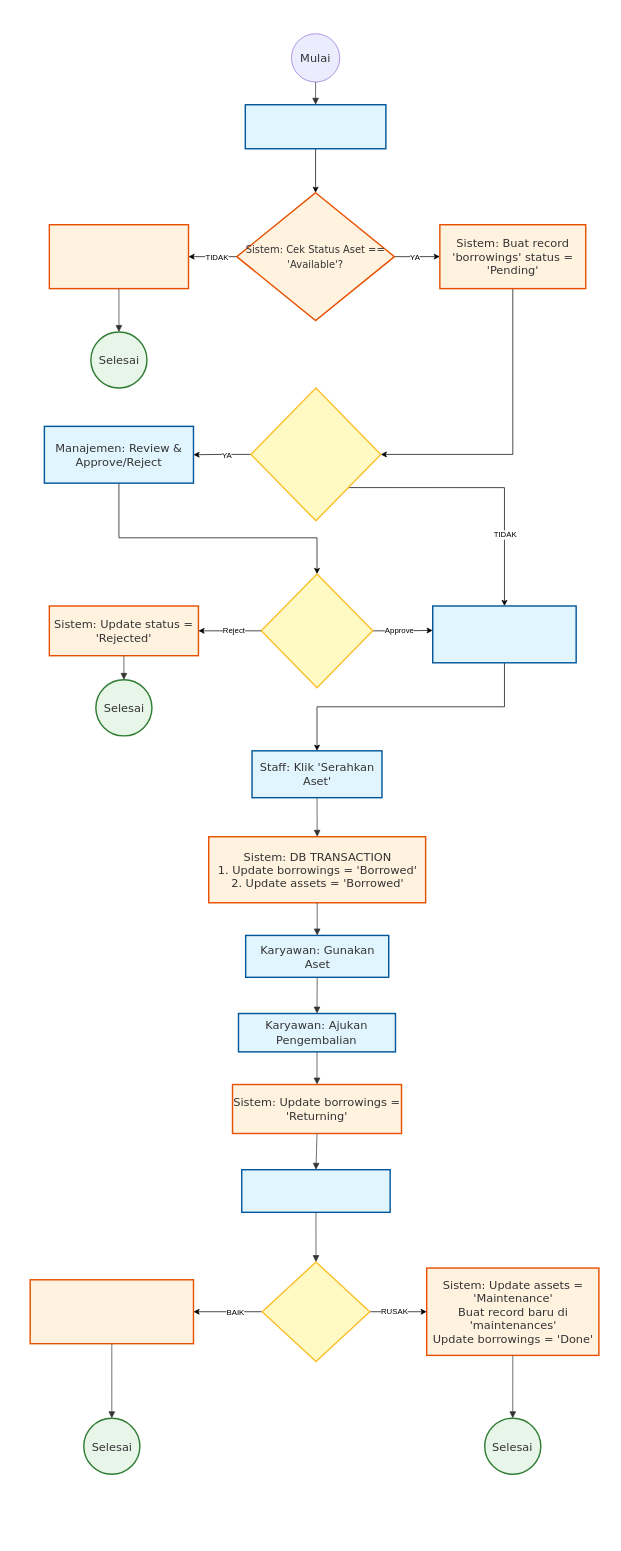
This 621x1551 diagram has some shape labels left out. Each missing label, with the box of its shape:
Karyawan: Ajukan Peminjaman Aset: (244, 104, 386, 149)
Keputusan Manajemen?: (260, 573, 373, 688)
Sistem: Apakah Aset Bernilai Tinggi?: (250, 387, 381, 521)
Sistem: Kondisi Aset?: (261, 1261, 370, 1362)
Sistem: Tolak & Return Error 400: (48, 224, 189, 289)
Sistem: Update assets = 'Available' Update borrowings = 'Done': (29, 1279, 194, 1344)
Staff Inventaris: Siapkan Fisik Aset: (432, 605, 577, 663)
Teknisi: Verifikasi Kondisi Fisik Aset: (241, 1169, 390, 1213)
